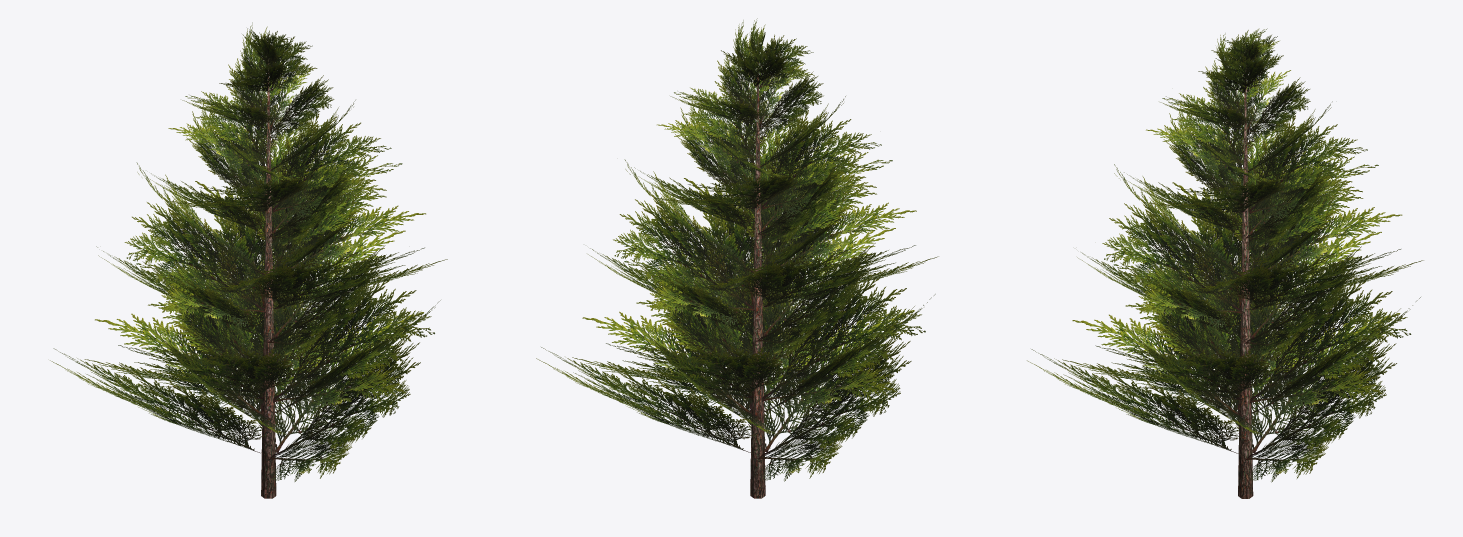
Rendered from tree1.fbx.
3 views of the same model, side by side, from view 1: azimuth 30°, elevation 25°; view 2: azimuth 150°, elevation 25°; view 3: azimuth 270°, elevation 25° (orthographic).
Visible parts, largest first — view 1: Plane_001, Plane, Plane_009, Plane_002, Plane_004, Plane_008, Plane_003, Plane_010, Plane_006, Plane_005, Plane_007, Cylinder; view 2: Plane_001, Plane, Plane_009, Plane_002, Plane_004, Plane_008, Plane_003, Plane_010, Plane_006, Plane_005, Plane_007, Cylinder; view 3: Plane_001, Plane, Plane_009, Plane_002, Plane_004, Plane_008, Plane_003, Plane_010, Plane_006, Plane_005, Cylinder, Plane_007.
Boxes of the visible parts, x1,y1,x2,y2 form: Plane_001: (84,228,434,415); Plane: (50,259,423,481); Plane_009: (124,147,447,327); Plane_002: (96,186,405,360); Plane_004: (165,98,391,216); Plane_008: (95,253,440,436); Plane_003: (136,147,425,293); Plane_010: (146,122,362,249); Plane_006: (182,52,334,137); Plane_005: (168,85,355,180); Plane_007: (219,22,317,92); Cylinder: (261,36,276,498); Plane_001: (572,225,925,414); Plane: (536,256,914,481); Plane_009: (613,143,938,325); Plane_002: (588,183,895,359); Plane_004: (655,94,881,214); Plane_008: (582,250,935,435); Plane_003: (624,144,916,291); Plane_010: (634,119,852,247); Plane_006: (670,52,823,134); Plane_005: (657,81,845,178); Plane_007: (721,18,814,89); Cylinder: (750,31,765,498); Plane_001: (1062,229,1411,415); Plane: (1027,260,1400,482); Plane_009: (1102,148,1423,328); Plane_002: (1077,187,1381,361); Plane_004: (1143,100,1367,217); Plane_008: (1072,254,1420,436); Plane_003: (1114,148,1402,294); Plane_010: (1124,124,1338,250); Plane_006: (1160,60,1310,139); Plane_005: (1146,87,1332,182); Cylinder: (1238,38,1253,498); Plane_007: (1198,28,1283,92).
Bounding box in the file's own units: 124 × 143 × 124.
